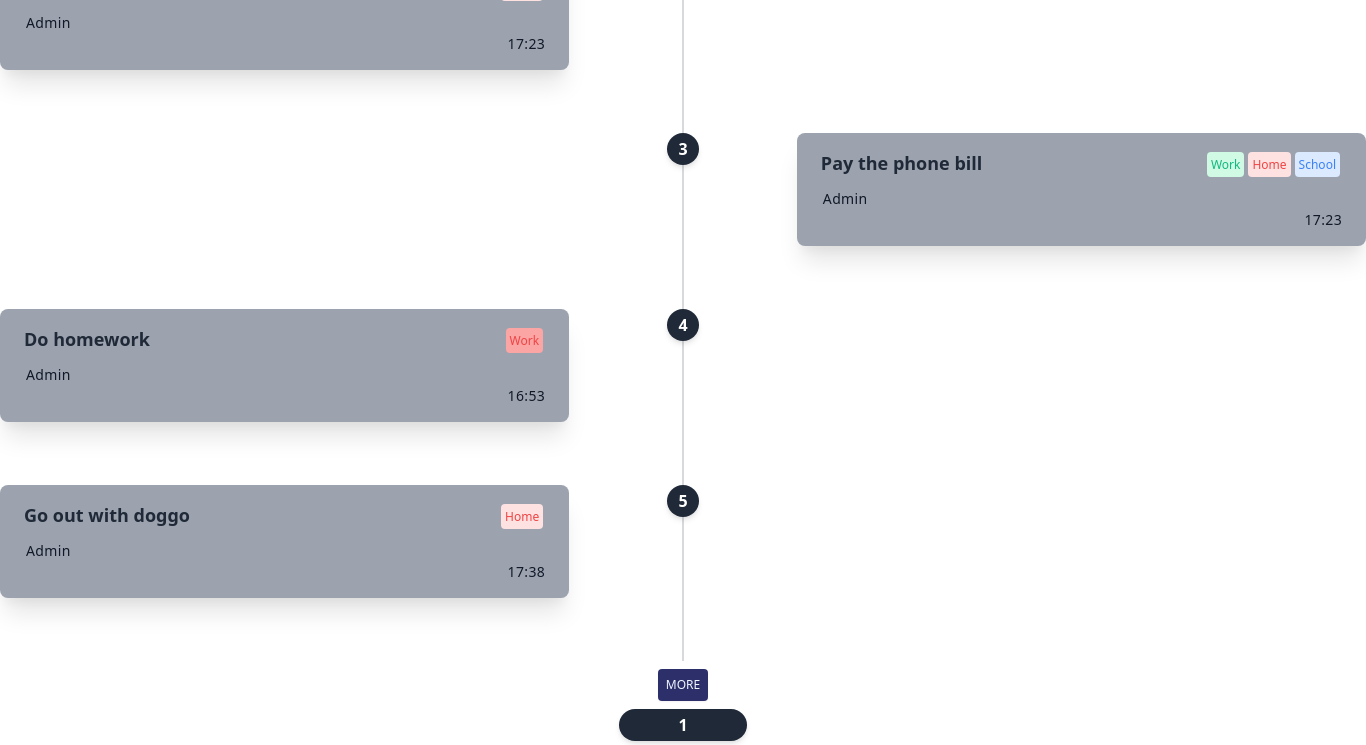
it: Activity › Tooltip › Show tooltip with activities count on mouse enter
(page scrolled)
Hover over the element with test id "bullet" at (683, 725), box [619, 709, 747, 741]
(page scrolled)
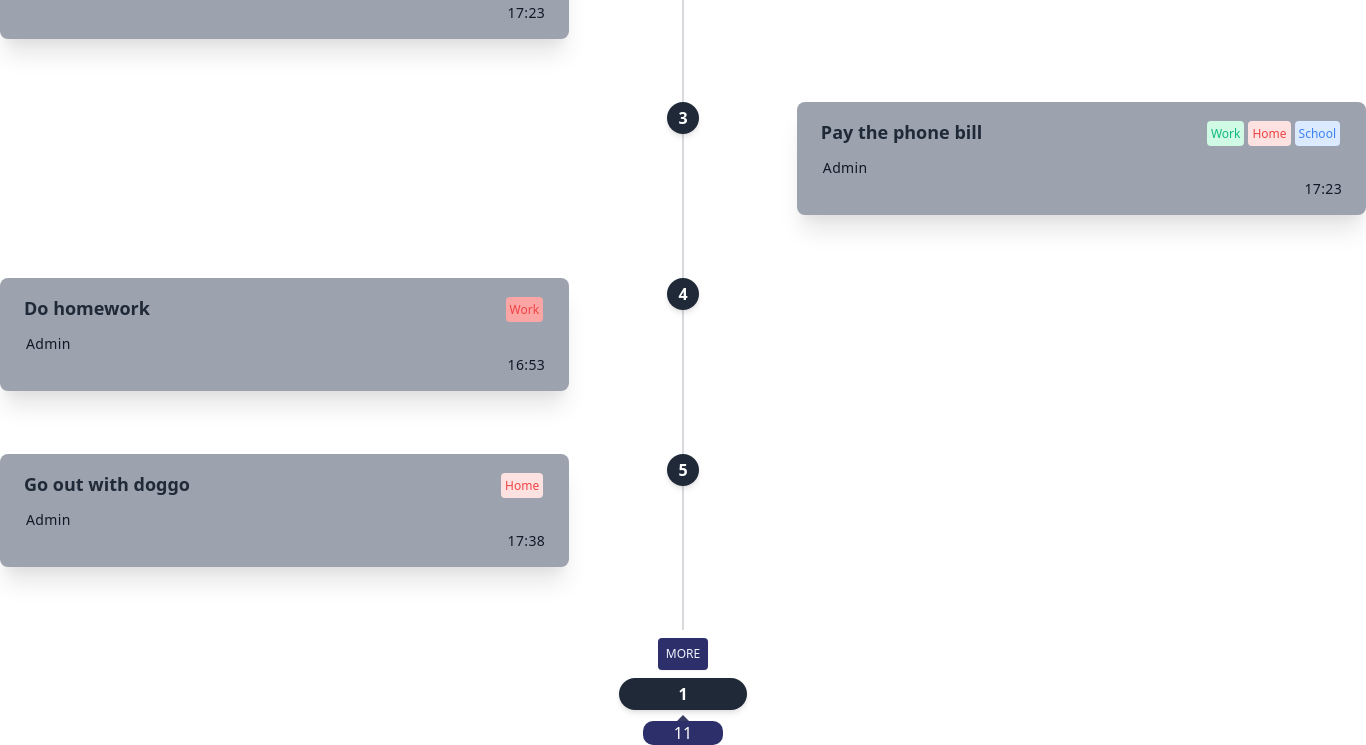
Check: the element with test id "tooltip" is shown, box [643, 721, 723, 744]
Check: the element with test id "tooltip" reads "11", box [674, 722, 692, 744]
